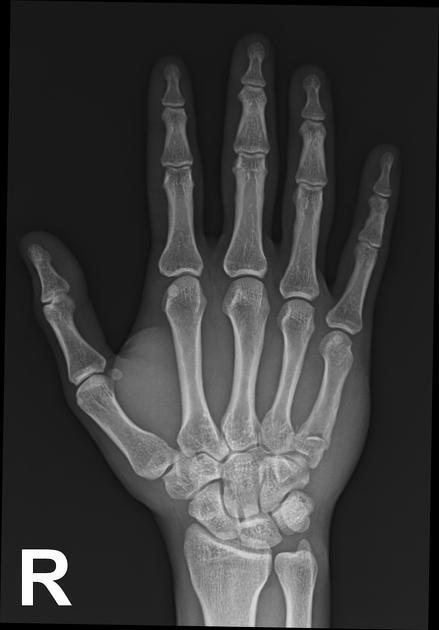fractured: (304, 423, 332, 448)
